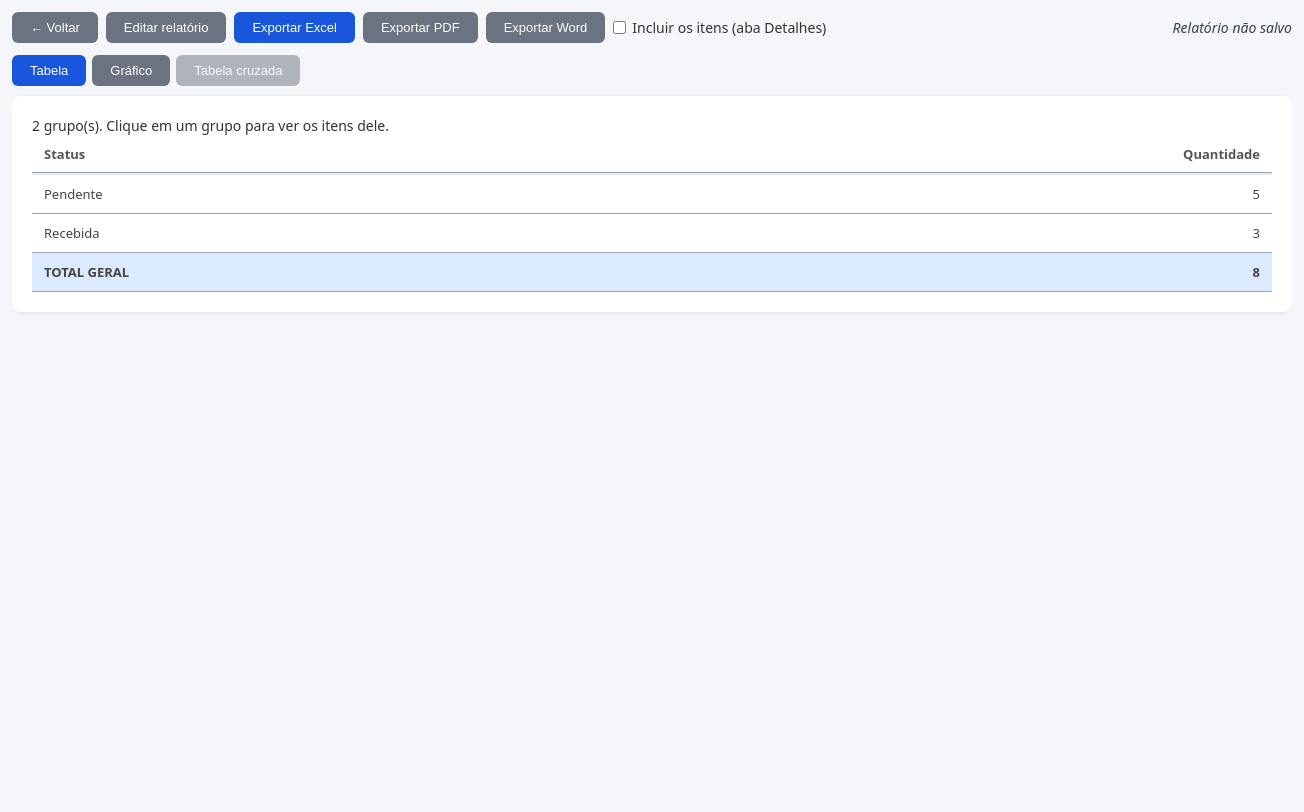
Test: Exportar em PDF e Word › com o gráfico na tela: a imagem vai no PDF e no Word; desmarcar tira; o Excel nunca leva imagem
This screenshot has width=1304, height=812.
Later steps or results of the test are not shown.
expect the text "TOTAL GERAL" is shown: met, box 44,263 -> 129,281
Click the button "Gráfico" at {"x": 131, "y": 70}, box 92,55 -> 170,86
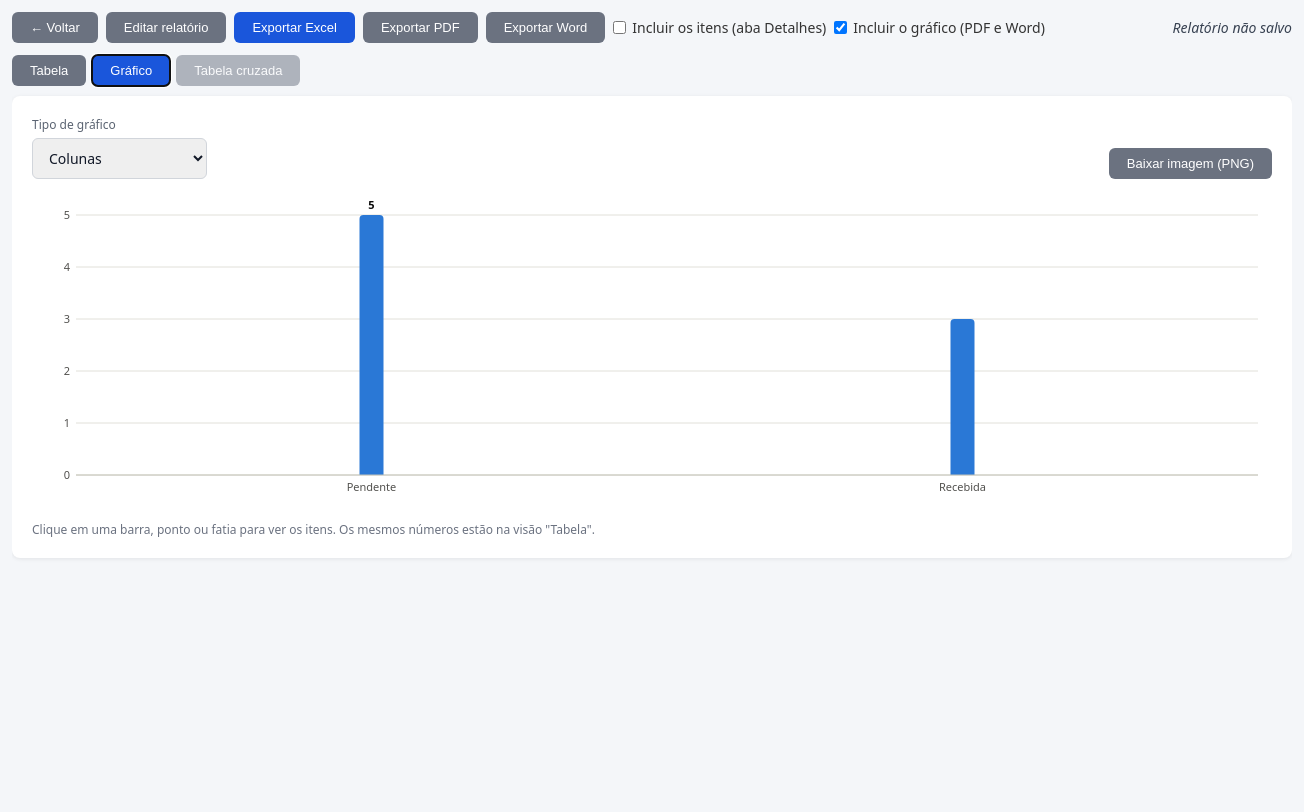
expect the checkbox labelled "Incluir o gráfico (PDF e Word)" is checked: met, box 834,21 -> 847,34
